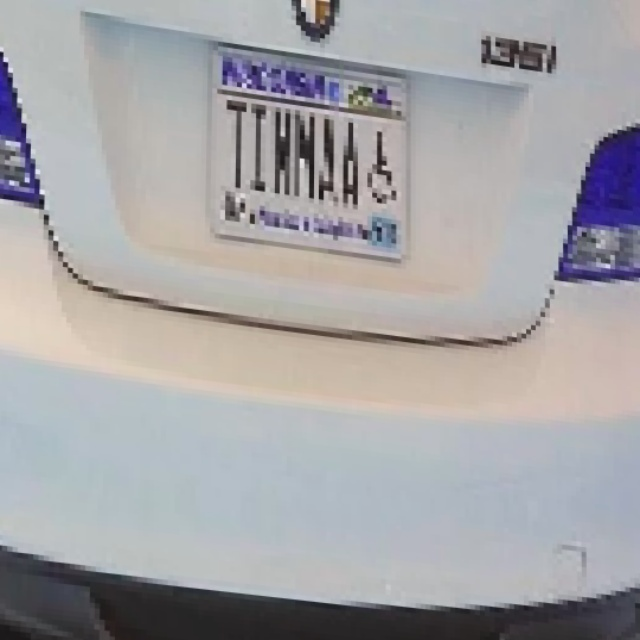ISA: (363, 119, 397, 210)
